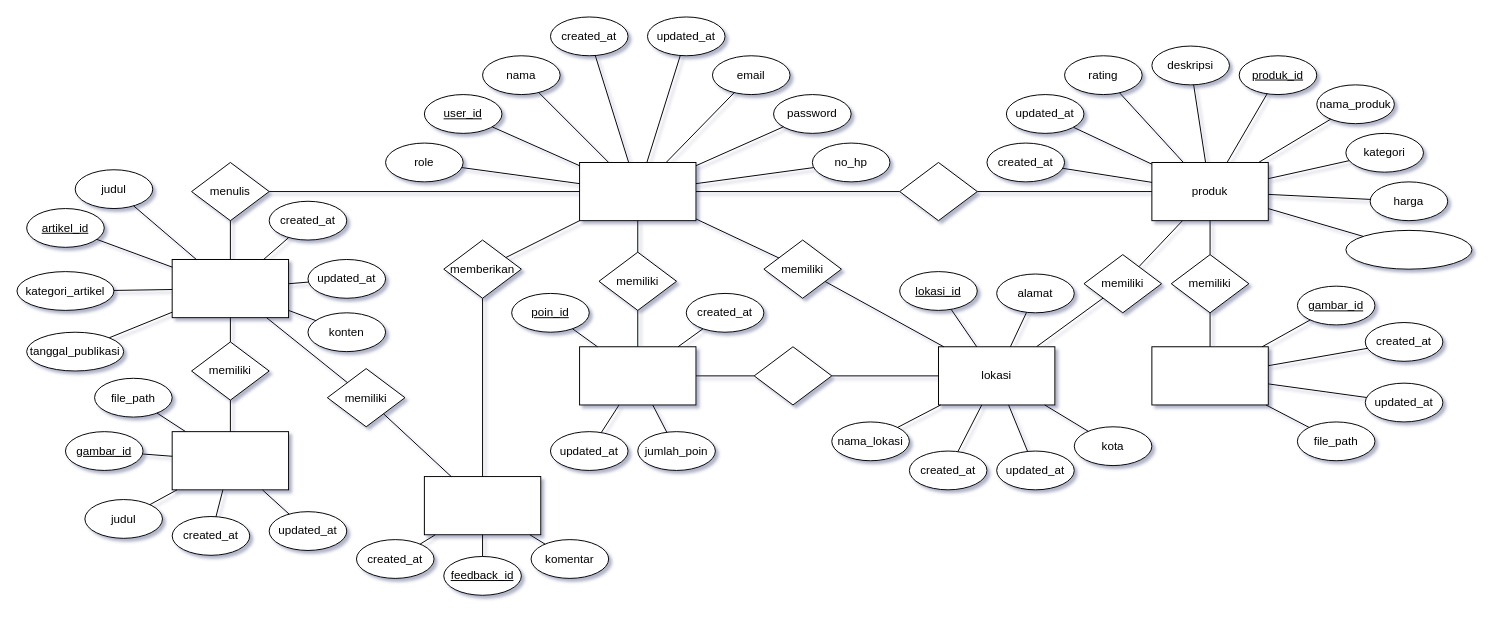
Some shapes in this 1495 by 619 pixel diagram are drawn without their labels. The centre of each missing label's shape, as x and y in pixels:
"artikel" goes at (230,288).
"artikel_gambar" goes at (230,460).
"feedback" goes at (482,505).
"menjual" goes at (938,191).
"menyediakan" goes at (792,375).
"poin" goes at (637,375).
"produk_gambar" goes at (1209,375).
"status_ketersediaan" goes at (1408,249).
"user" goes at (637,191).
